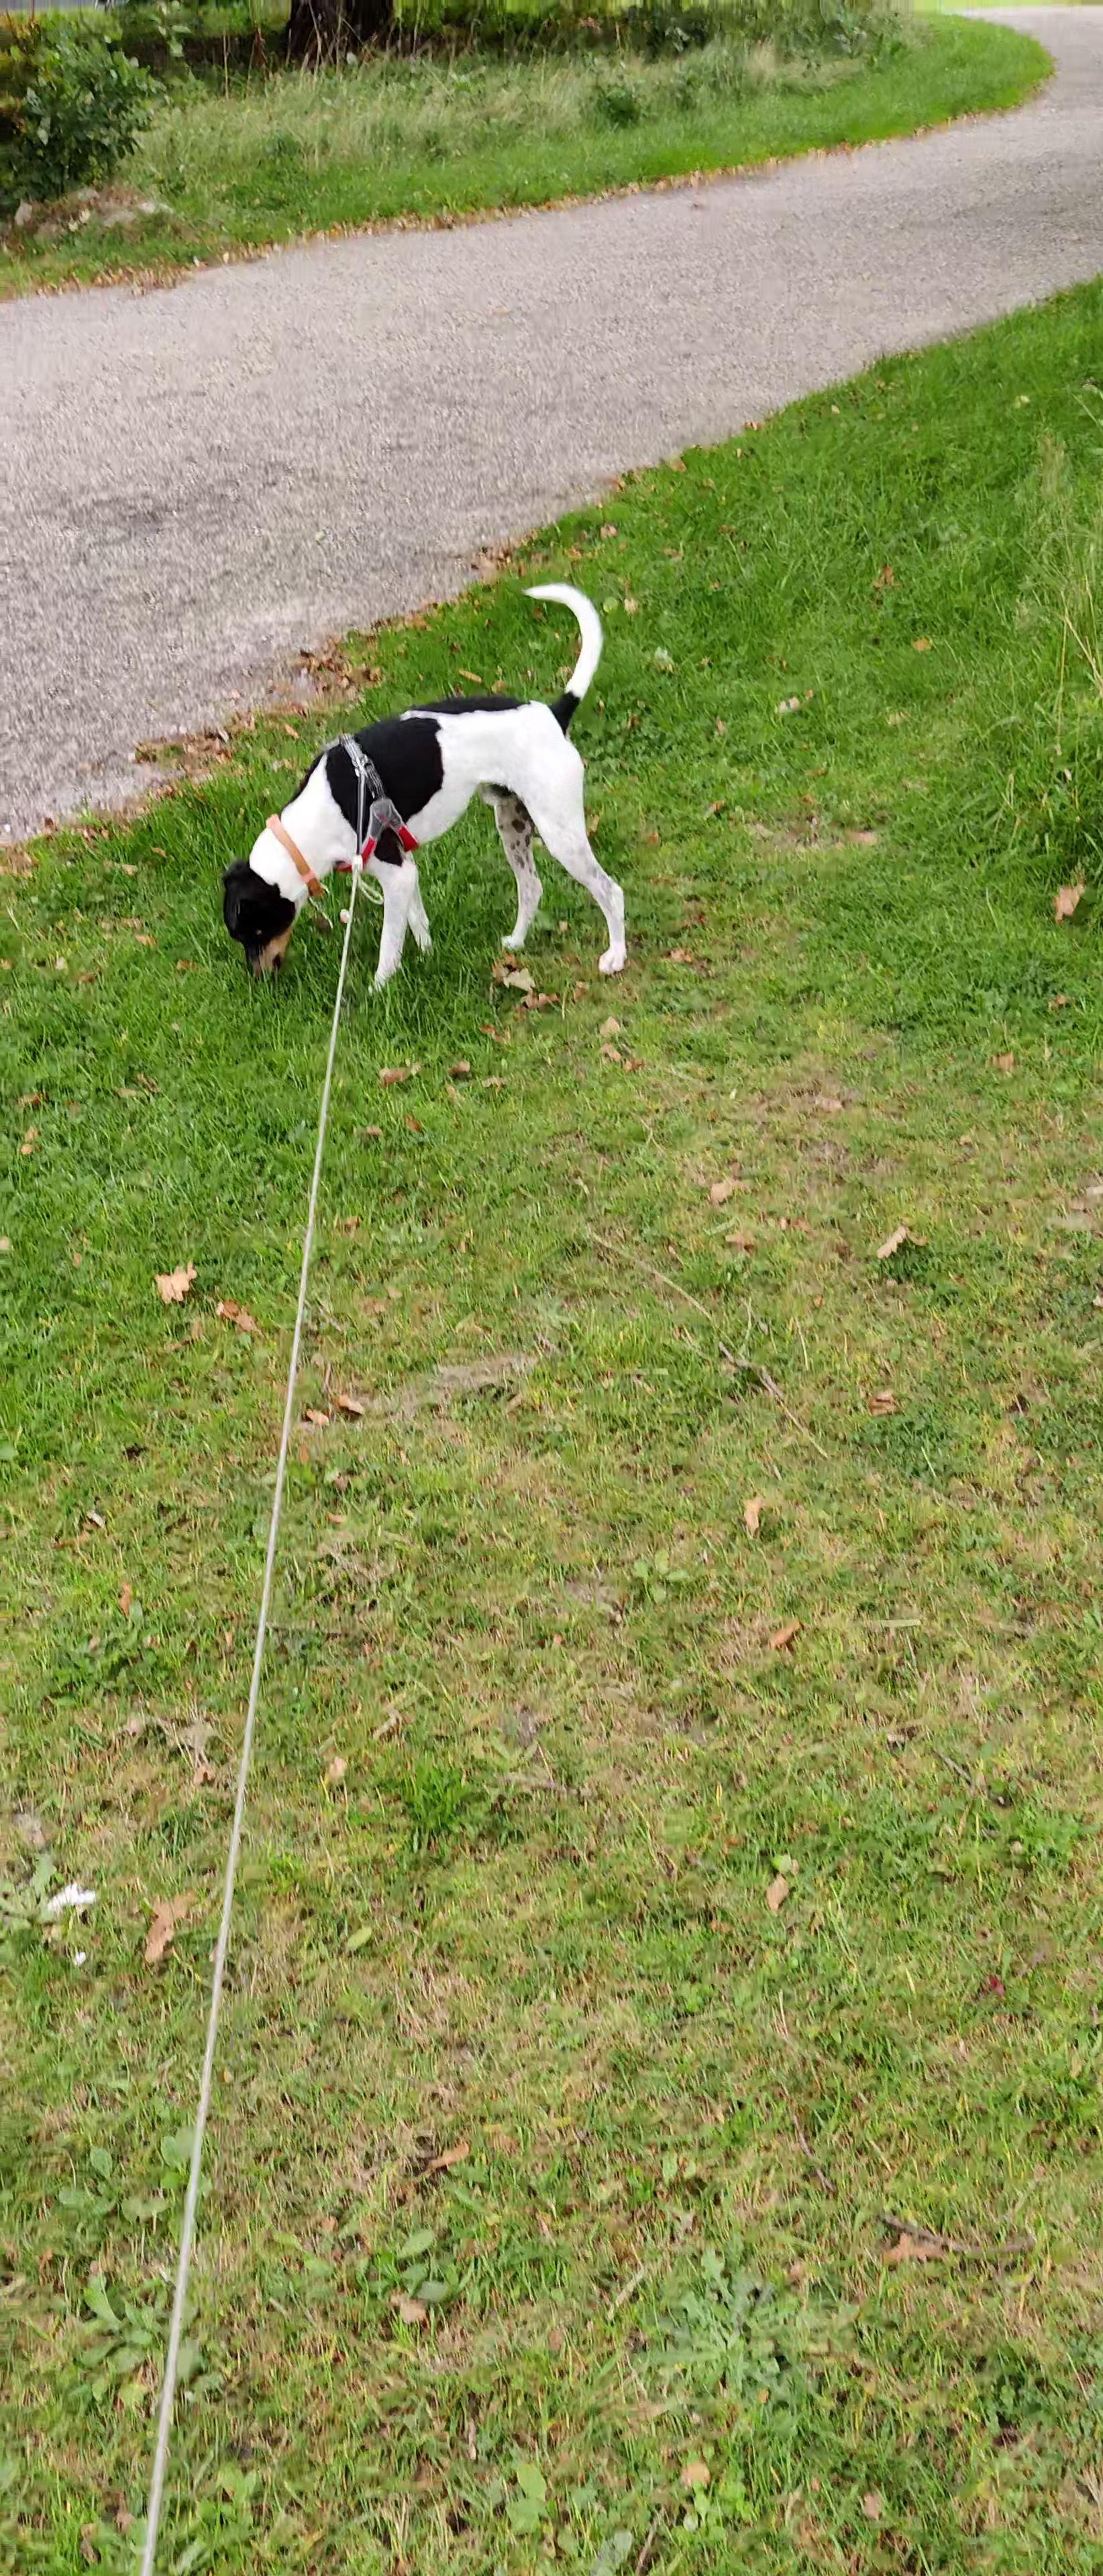Dog: (219, 572, 643, 1005)
